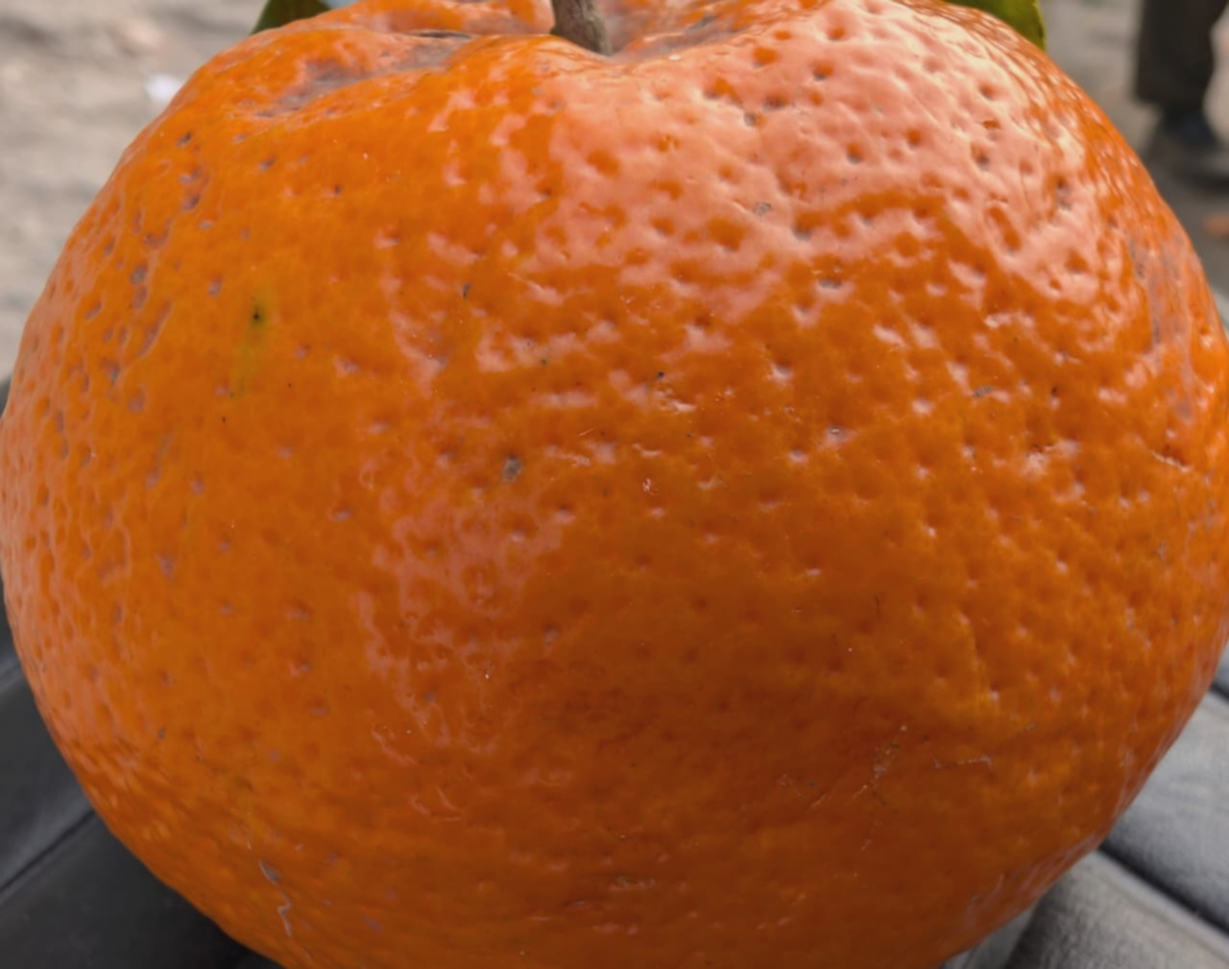orange: (181, 39, 1229, 766)
